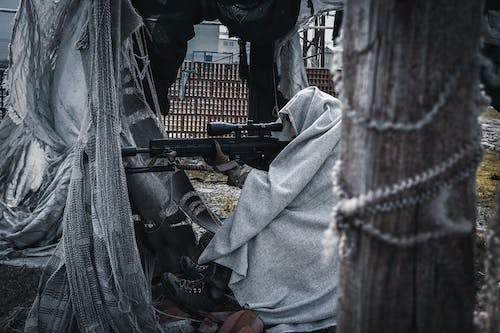gun: (121, 120, 291, 176)
